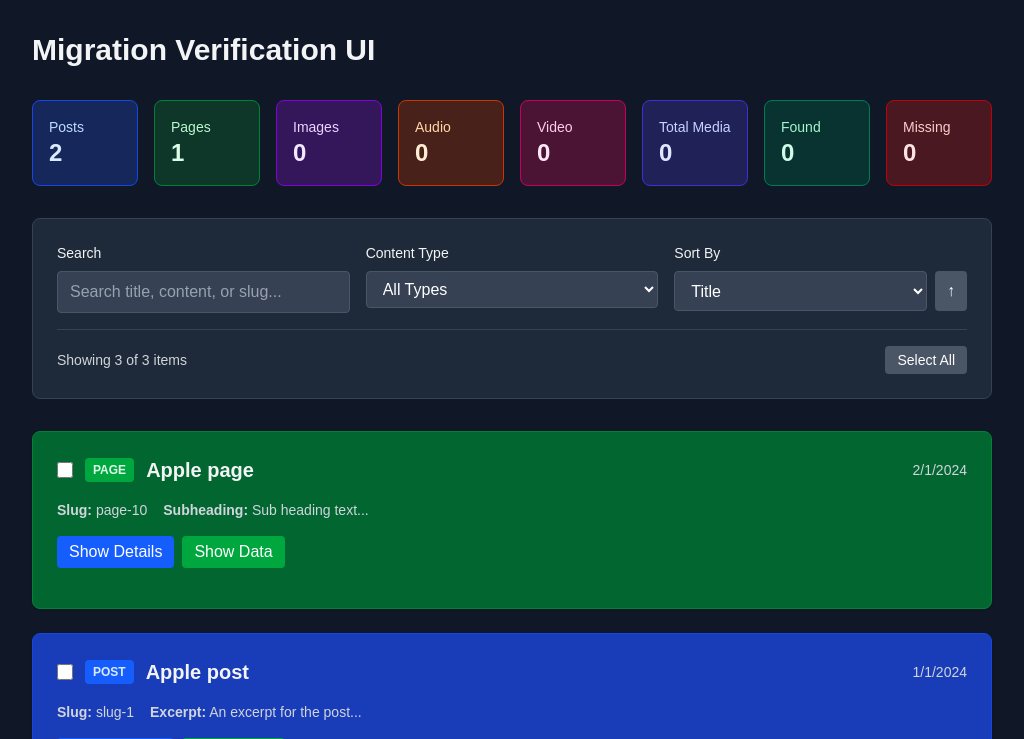
VerifyMigrationUI — search, filter and sort › toggles individual selection on/off
Expected: the heading "Apple post" is shown, [146, 661, 249, 683]
What coordinates should you click on to do the following:
click the checkbox in the row of "Apple page"
I would click on:
 (65, 470)
Its box is [57, 462, 73, 478].
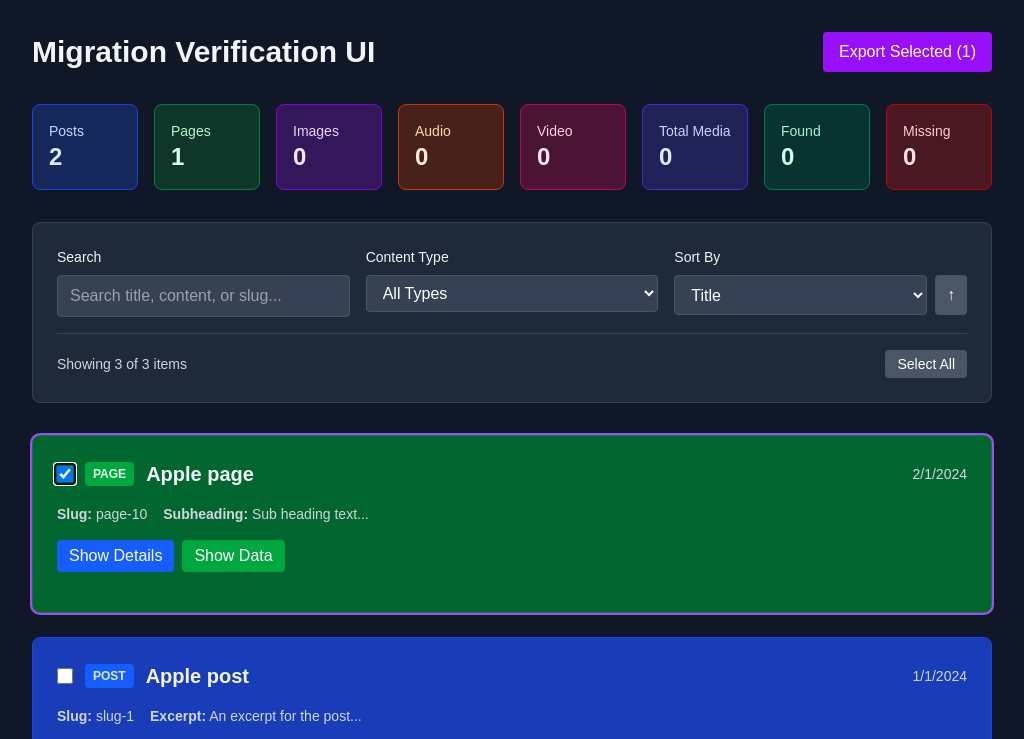
Result: the button "Export Selected (1)" is shown at [823, 32, 992, 72]
What coordinates should you click on to do the following:
click the checkbox in the row of "Apple page"
I would click on:
 (65, 474)
Its box is [57, 466, 73, 482].
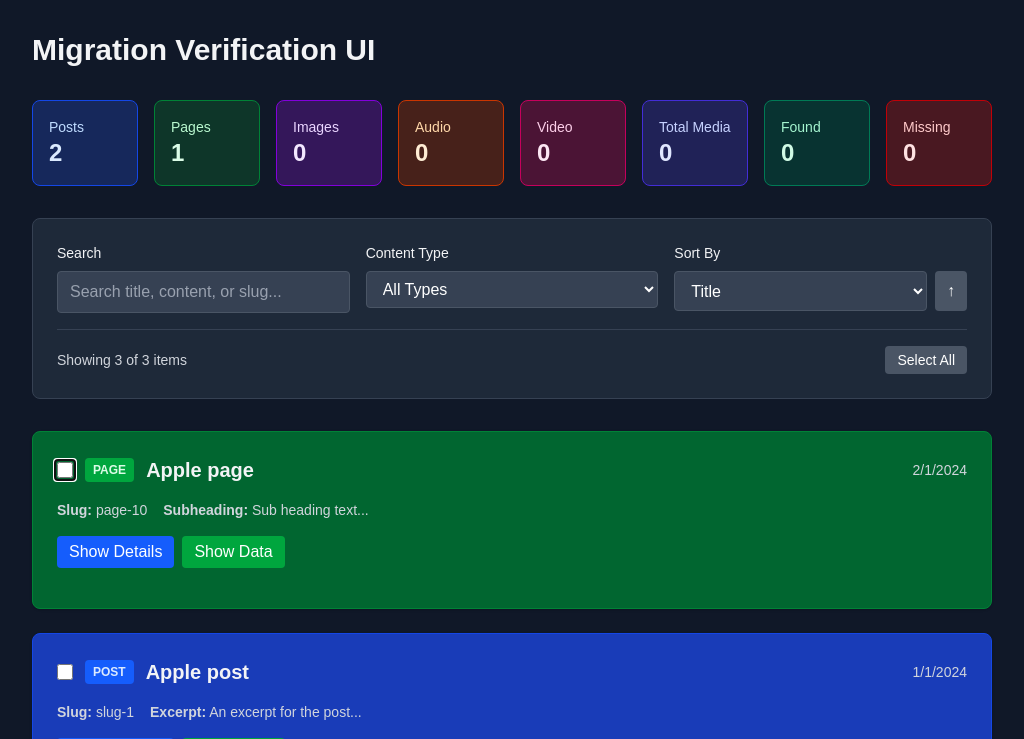
Result: the button "Export Selected" is gone
